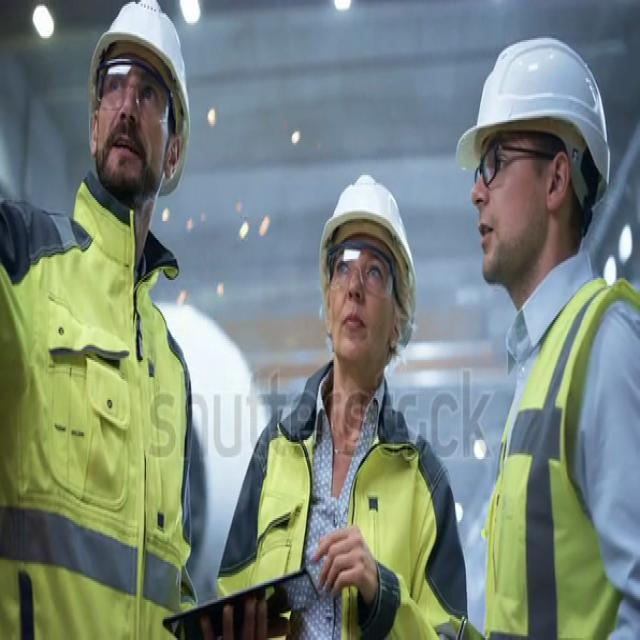goggles: (96, 55, 172, 131), (468, 140, 559, 198), (327, 243, 396, 302)
